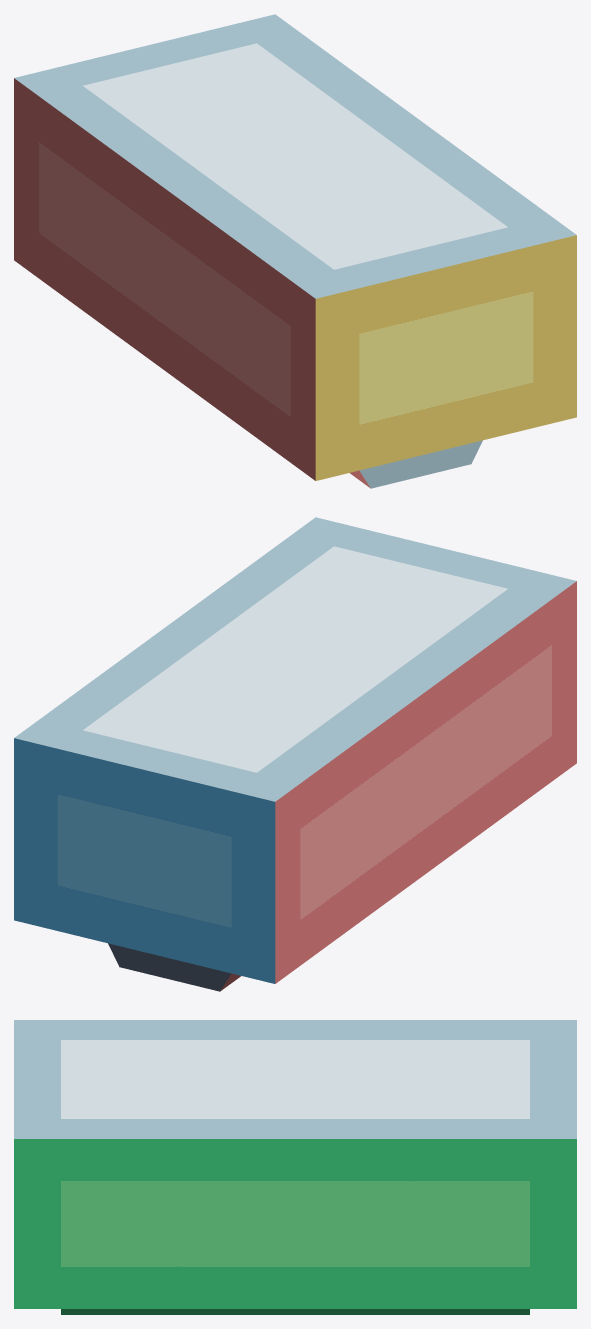
The model's file is lamp.obj.
The picture shows the model from 3 angles, top to bottom: view 1: azimuth 30°, elevation 25°; view 2: azimuth 150°, elevation 25°; view 3: azimuth 270°, elevation 25°; orthographic projection. The views are drawn at different scales.
Parts seen in each view (by area): view 1: body, bulb; view 2: body, bulb; view 3: body, bulb.
Part boxes in pixels (bbox=[...]): body: bbox=[14, 14, 576, 480]; bulb: bbox=[350, 440, 482, 488]; body: bbox=[14, 517, 576, 983]; bulb: bbox=[108, 943, 240, 991]; body: bbox=[14, 1020, 576, 1308]; bulb: bbox=[61, 1309, 529, 1314].
Bounding box in the file's own units: 0.1875 × 0.1562 × 0.375.
Materials: 1 (1 with a texture image).
